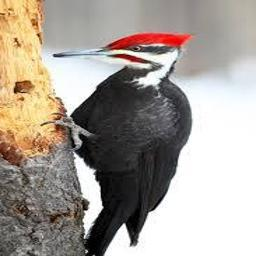Woodpecker: (41, 34, 192, 256)
